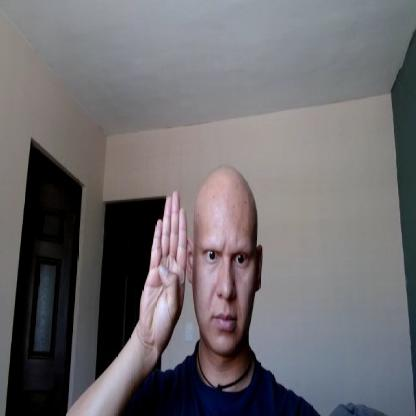B: (140, 190, 187, 351)
